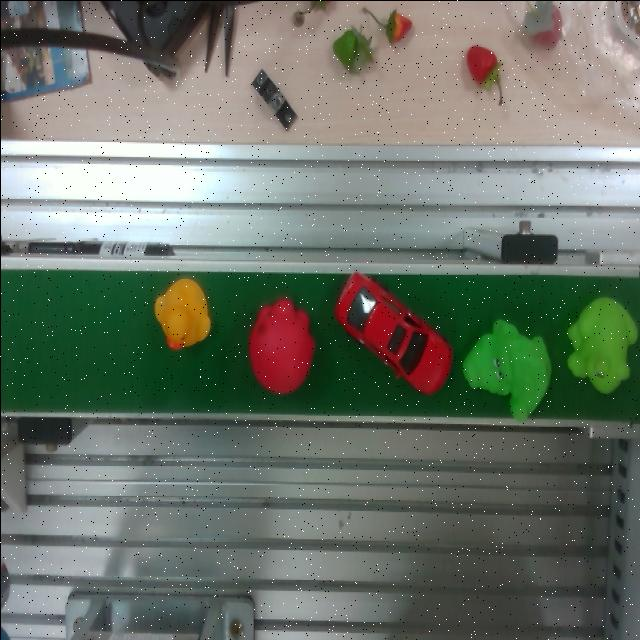Large Unripe Strawberry: (463, 42, 506, 108)
None - Strawberry: (332, 271, 455, 399), (462, 310, 556, 420), (242, 297, 316, 395), (564, 296, 630, 392), (140, 279, 213, 361)
conveyor: (0, 260, 640, 430)
